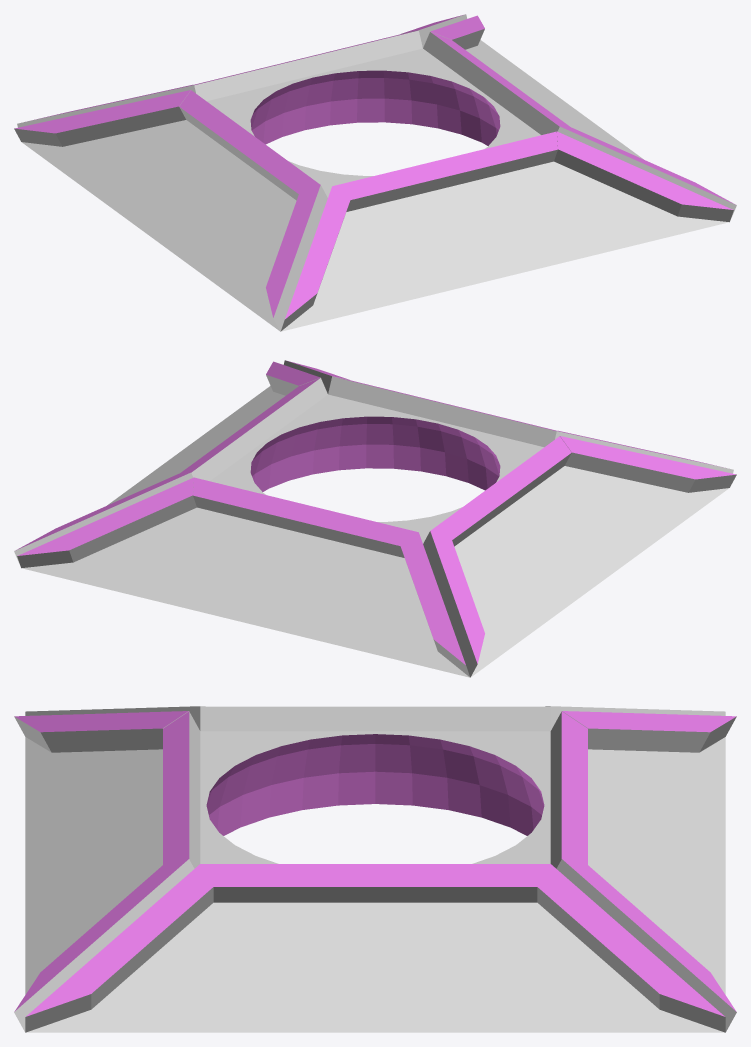
Rendered from pentagon.glb.
The picture shows the model from 3 angles, top to bottom: view 1: azimuth 30°, elevation 25°; view 2: azimuth 150°, elevation 25°; view 3: azimuth 270°, elevation 25°; orthographic projection. The views are drawn at different scales.
Visible parts, largest first — view 1: Cube; view 2: Cube; view 3: Cube.
Part boxes in pixels (x1,y1,x2,y2): Cube: [14, 14, 736, 331]; Cube: [14, 360, 736, 677]; Cube: [14, 706, 736, 1032].
Bounding box in the file's own units: 4.13 × 0.6293 × 4.13.
